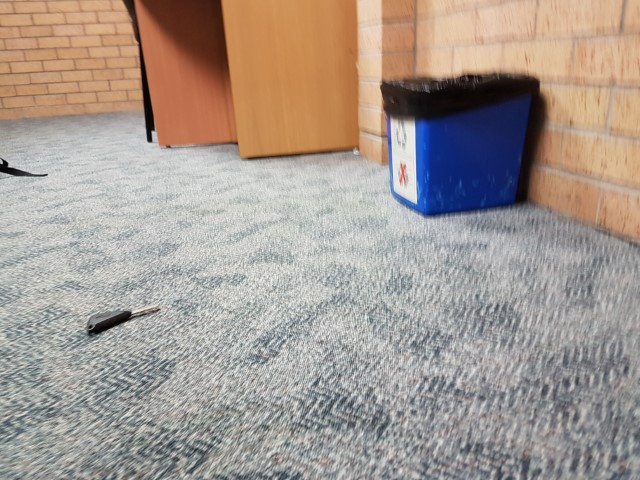key: (86, 305, 159, 335)
